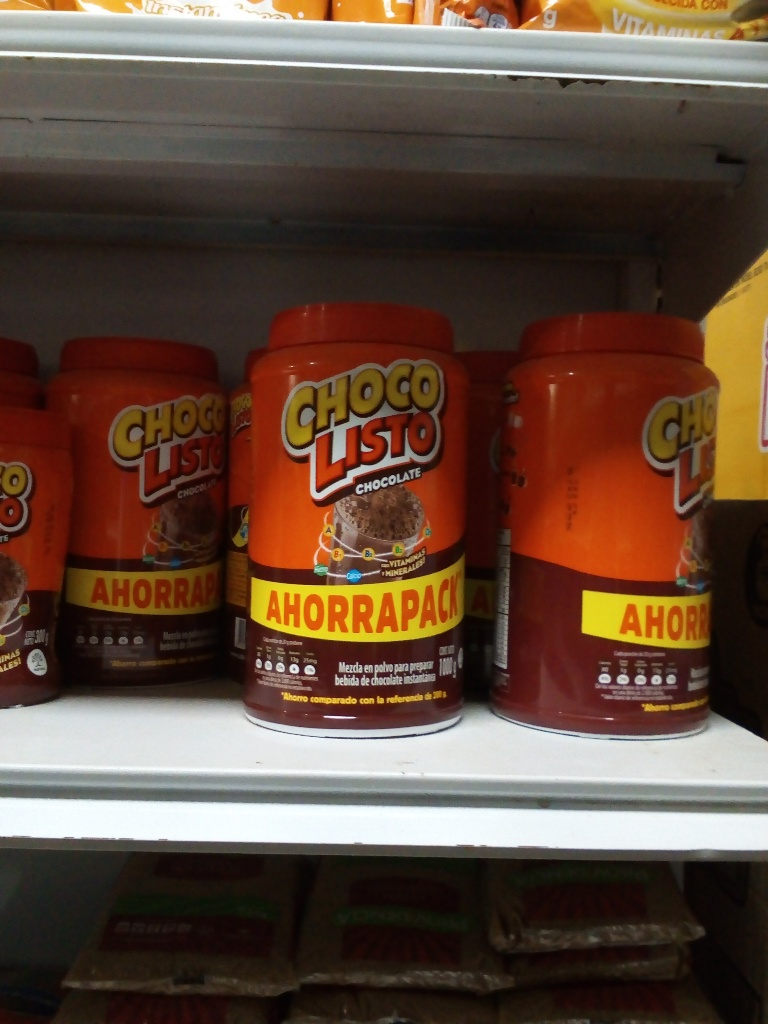COL0170103TRR00100: (47, 317, 227, 682)
